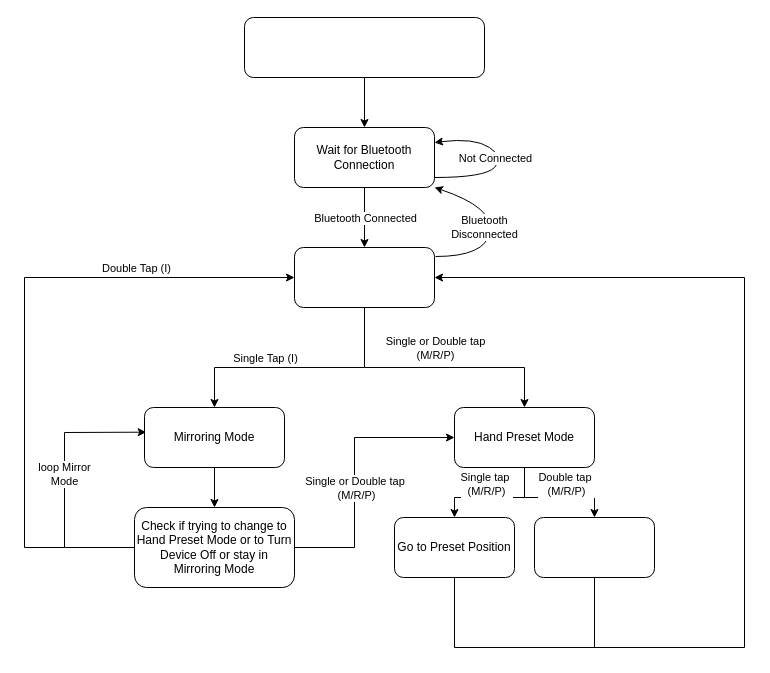
Some shapes in this 770 by 673 pixel diagram are drawn without their labels. The shapes that lost their labels are listed below. From the top down, each one's centre as x and y in pixels, then its label:
At pixel 364 47: "Turn Device On".
At pixel 364 277: "Do Nothing".
At pixel 594 547: "Record and Save a New Position".
